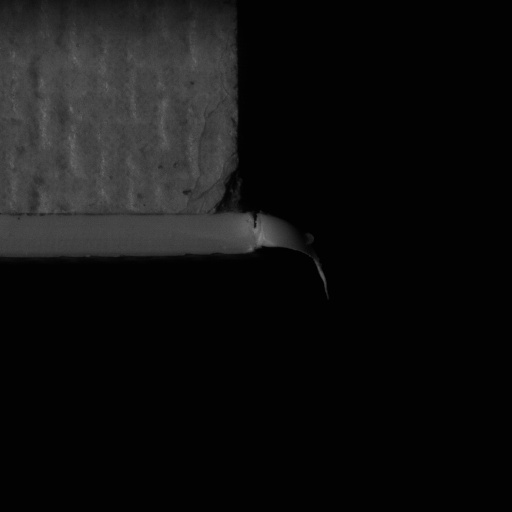bengque: (213, 161, 251, 218)
changdai: (246, 211, 334, 295)
